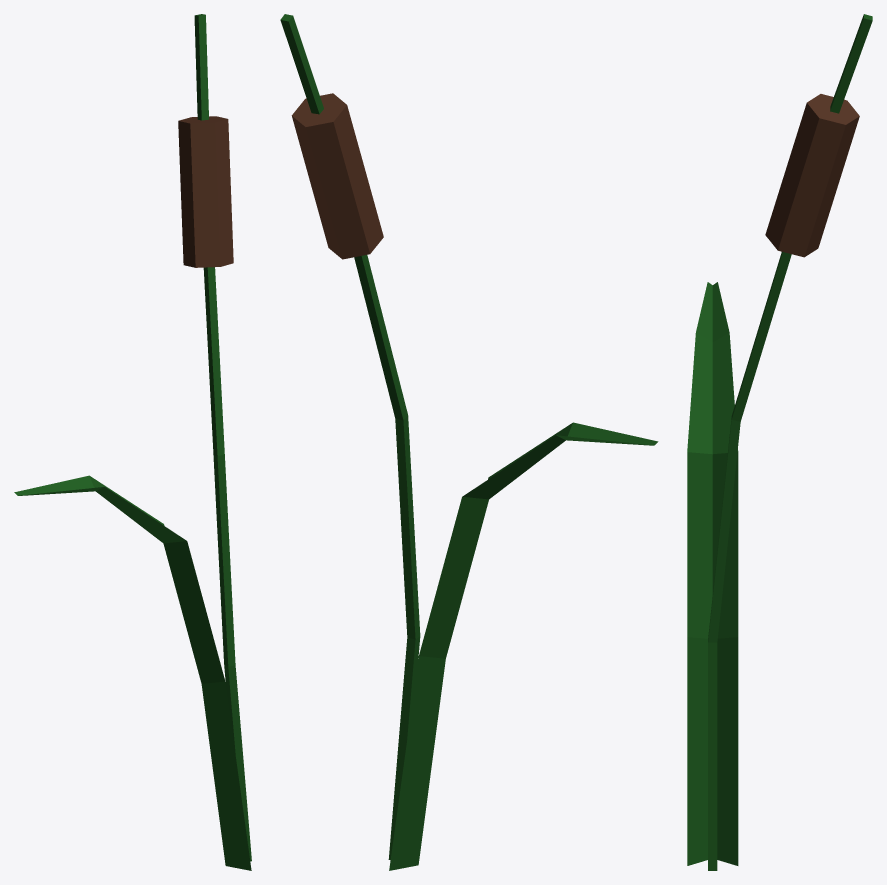
File: pała.fbx
The picture shows the model from 3 angles, left to right: view 1: azimuth 30°, elevation 25°; view 2: azimuth 150°, elevation 25°; view 3: azimuth 270°, elevation 25°; orthographic projection. The views are drawn at different scales.
Parts seen in each view (by area): view 1: pała, liść; view 2: pała, liść; view 3: liść, pała.
Boxes of the visible parts, left/top/right/bottom form: pała: left=178, top=14, right=251, bottom=861; liść: left=14, top=475, right=251, bottom=870; pała: left=280, top=14, right=420, bottom=860; liść: left=389, top=422, right=658, bottom=870; liść: left=687, top=282, right=738, bottom=865; pała: left=708, top=14, right=872, bottom=870.
Size of the model in its own units: 92.21 by 267 by 51.77.
